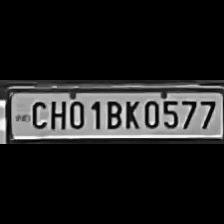0: (66, 97, 86, 129), (140, 97, 160, 128)
1: (86, 98, 104, 130)
5: (160, 97, 178, 129)
7: (196, 97, 216, 129), (180, 98, 196, 130)
B: (102, 97, 122, 129)
C: (27, 97, 47, 129)
H: (47, 97, 66, 129)
K: (122, 98, 140, 130)
